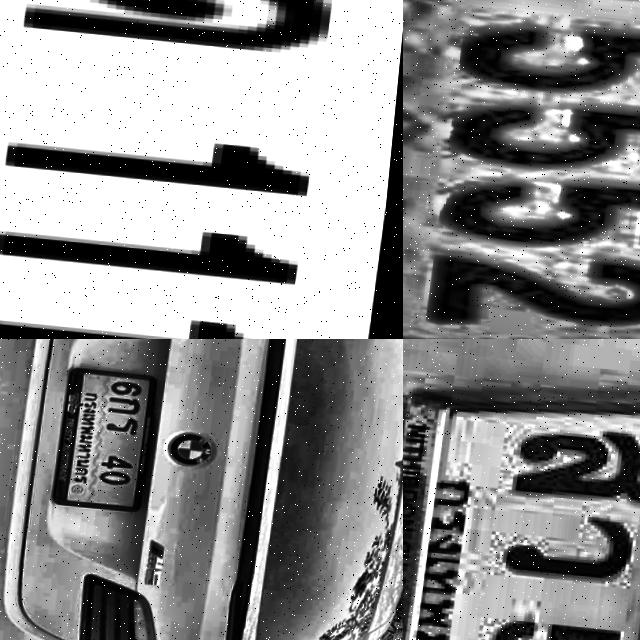license-plate: (0, 0, 403, 339), (403, 0, 640, 339), (403, 339, 640, 640), (58, 362, 167, 508)
